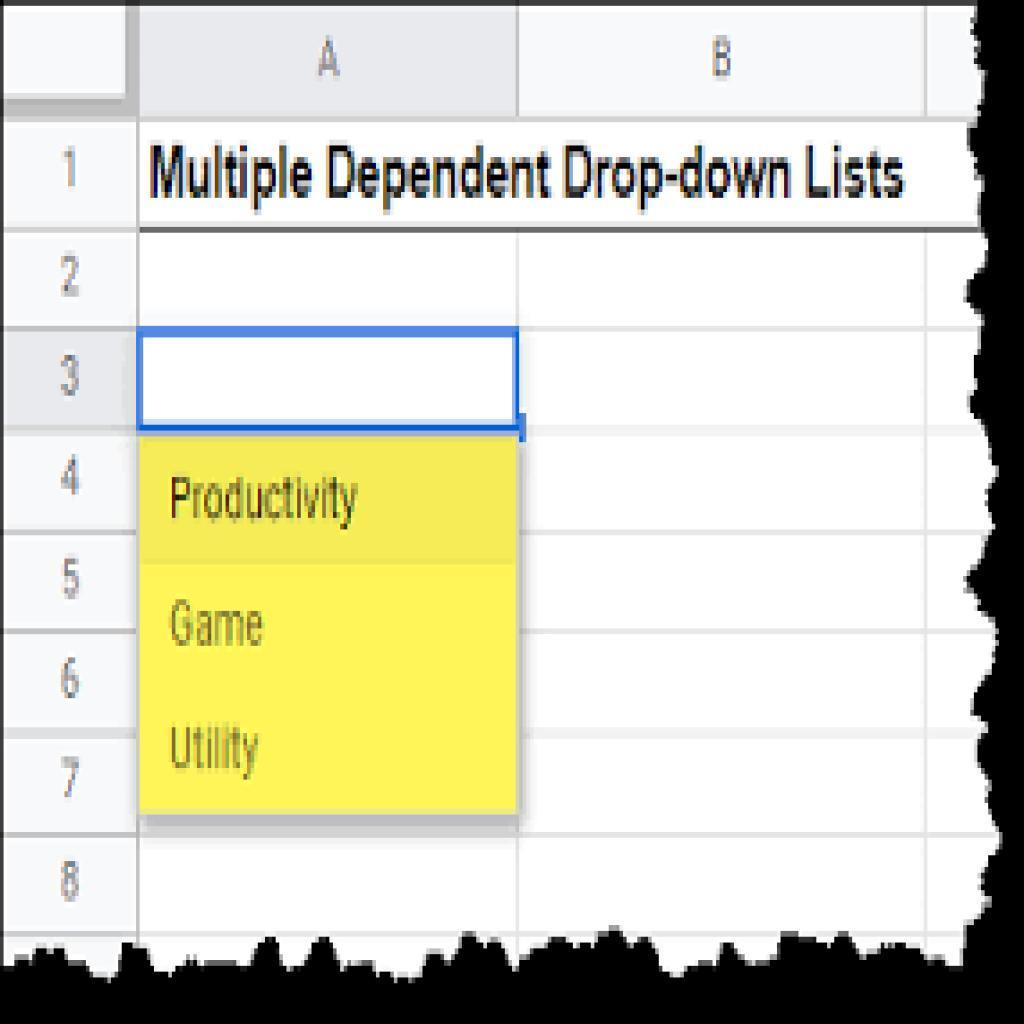radio: (2, 1, 931, 937)
